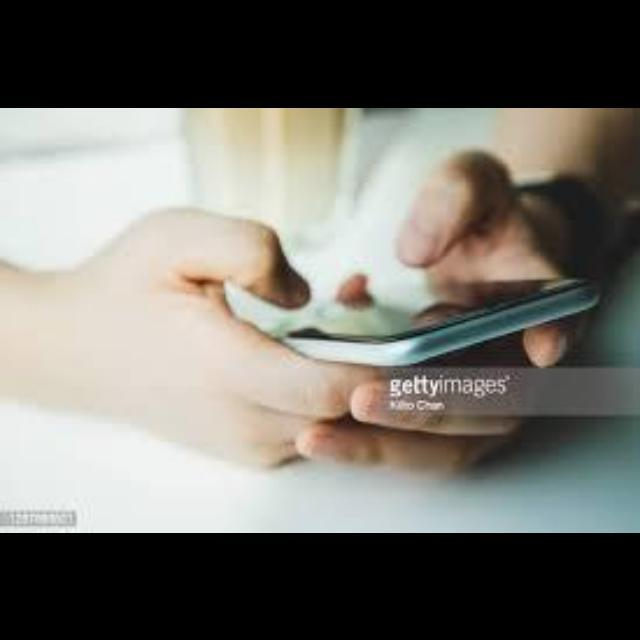Phone: (202, 217, 608, 361)
